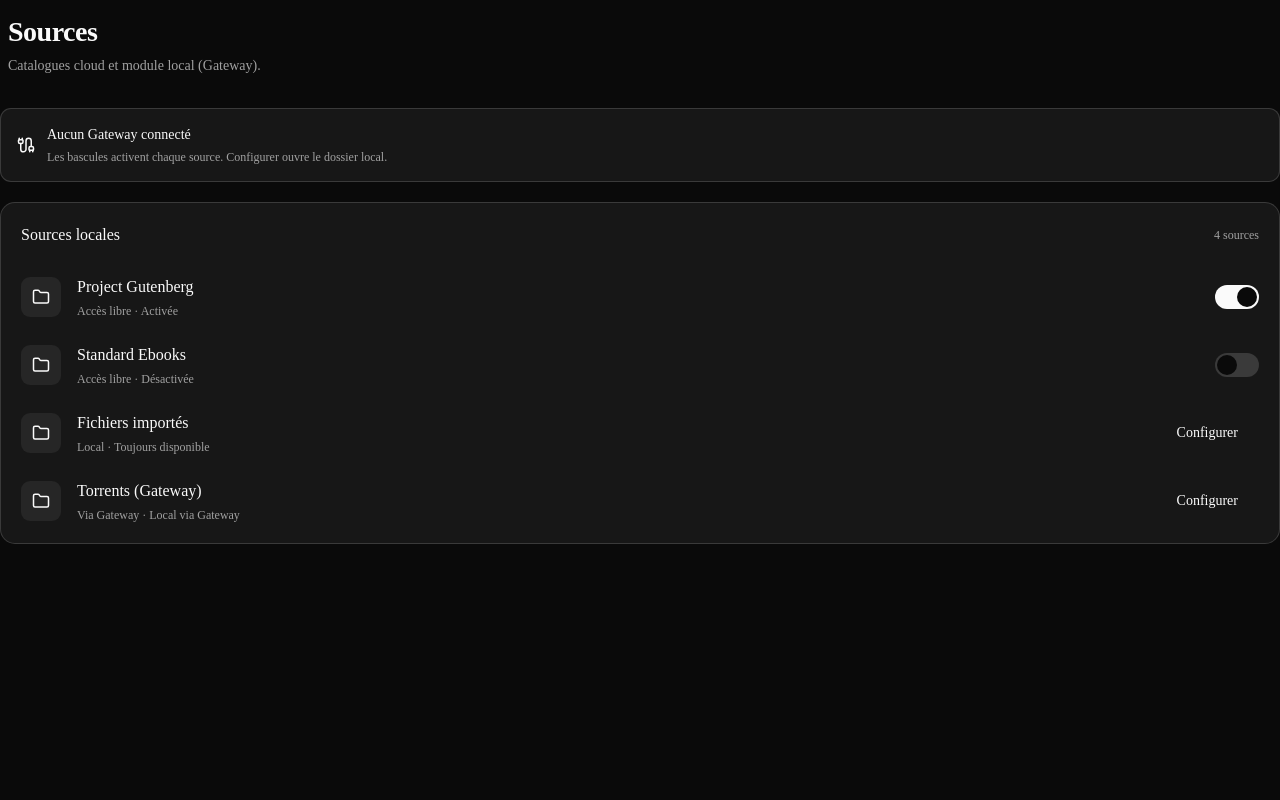
Scenario: UI harness — sources › restores the previous enabled state when PATCH fails
Click the switch named "Désactiver Project Gutenberg" at (1237, 297), box [1215,285,1259,309]
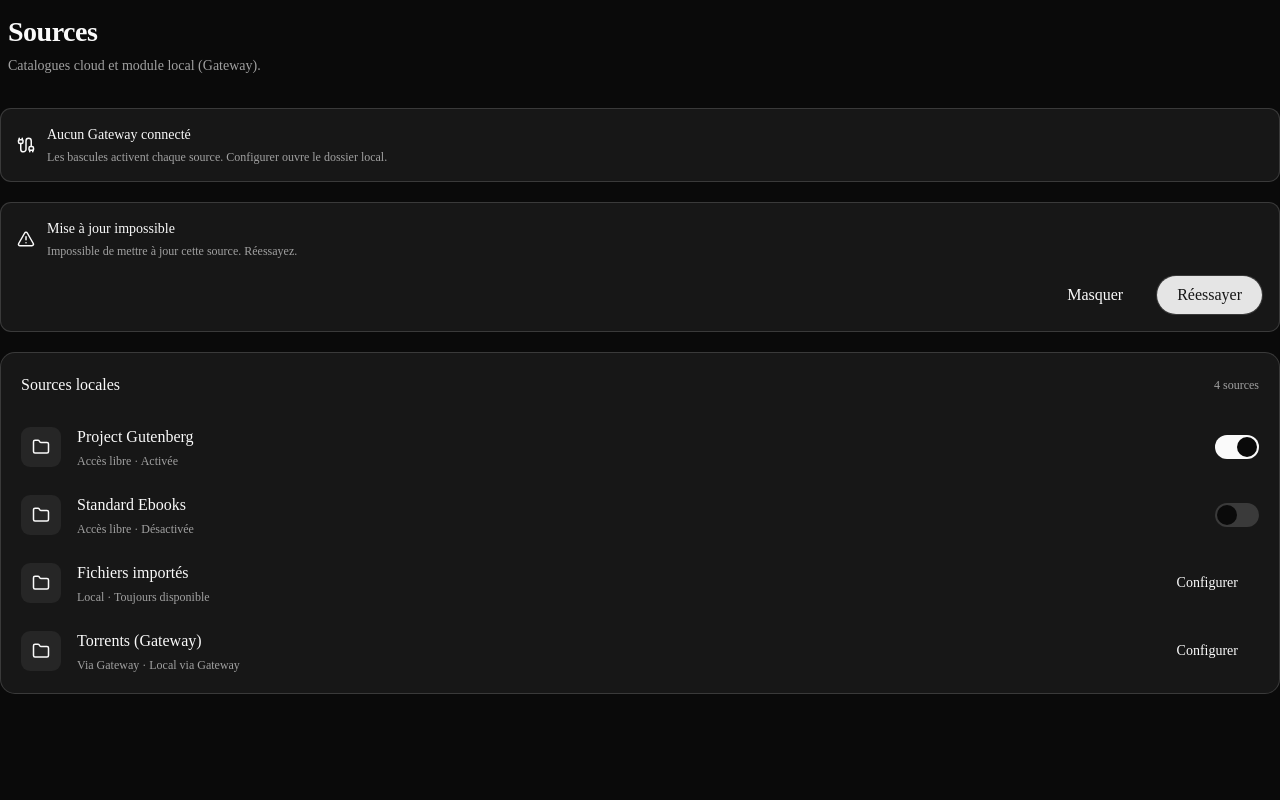
Expected: the text "Mise à jour impossible" is shown, [47,221,175,236]
Expected: the text "Impossible de mettre à jour cette source. Réessayez." is shown, [47,244,297,258]
